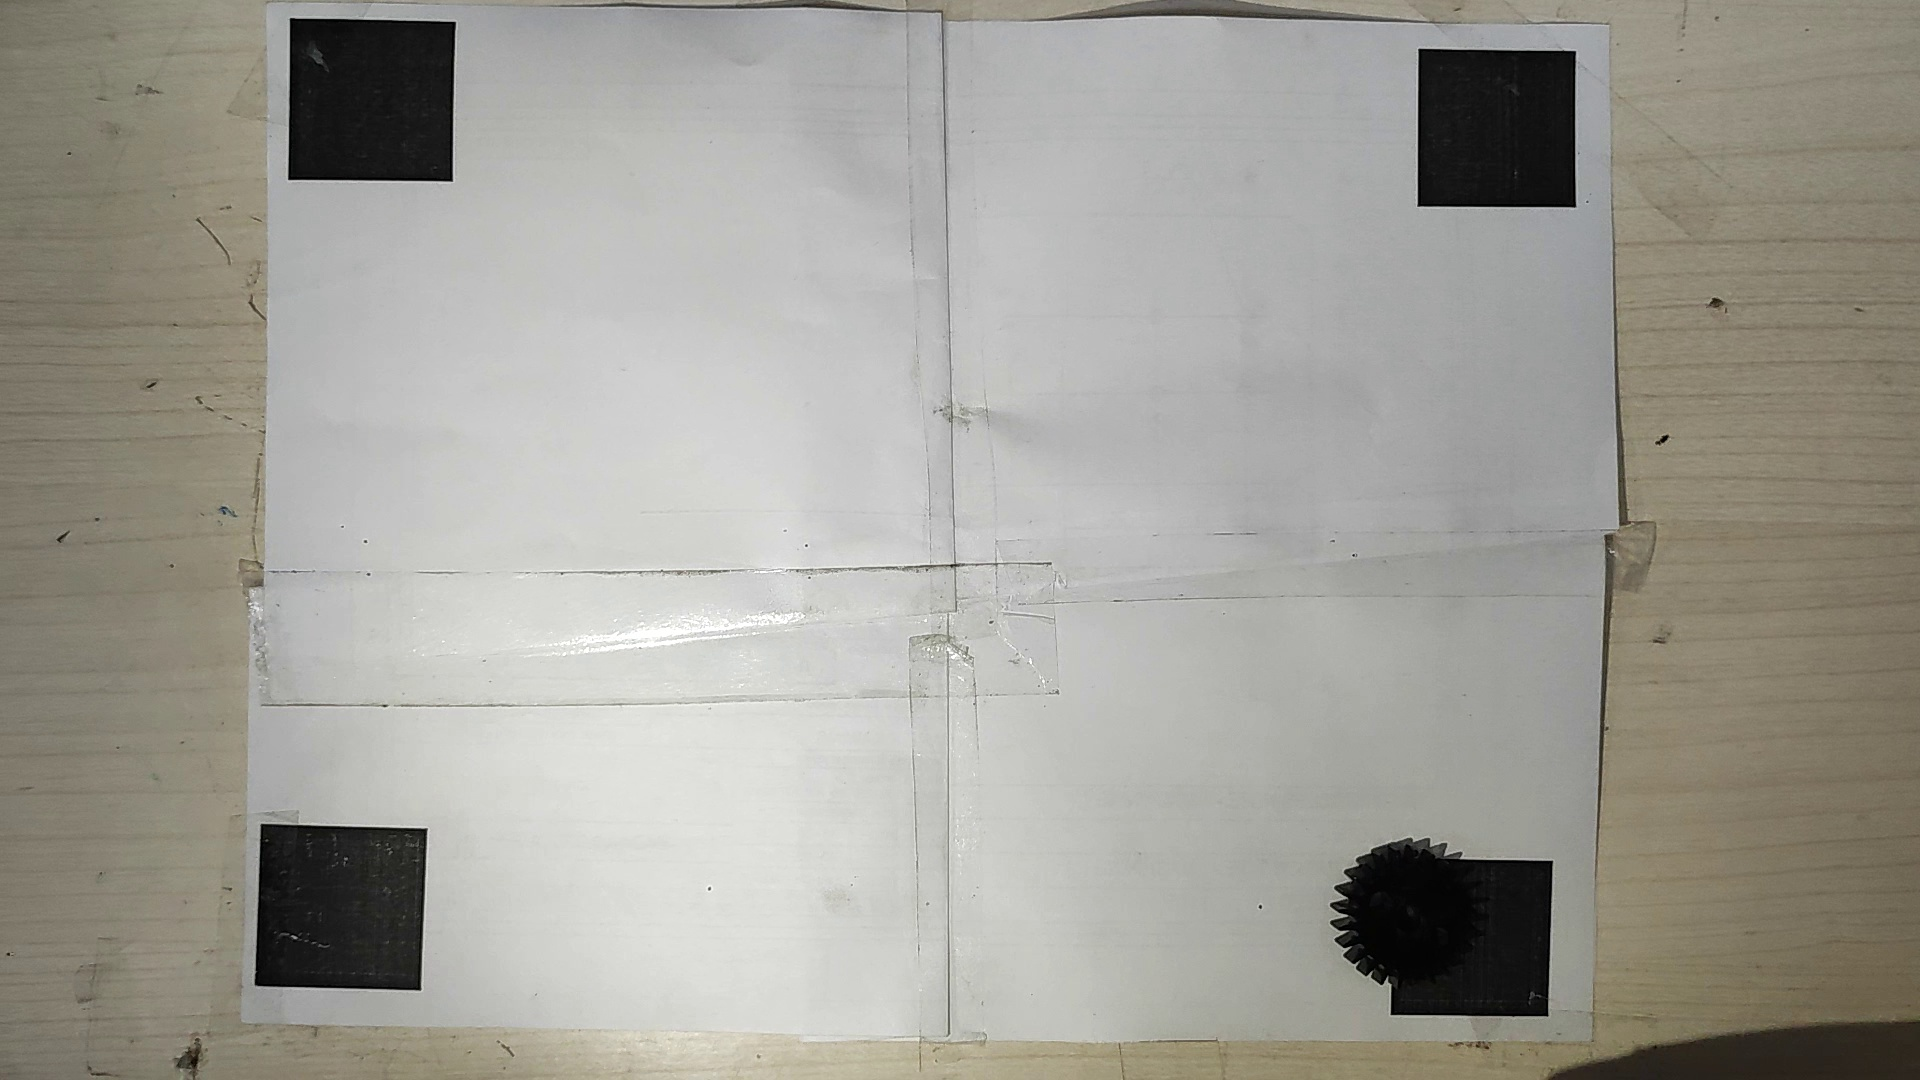Gear: (1325, 836, 1484, 994)
